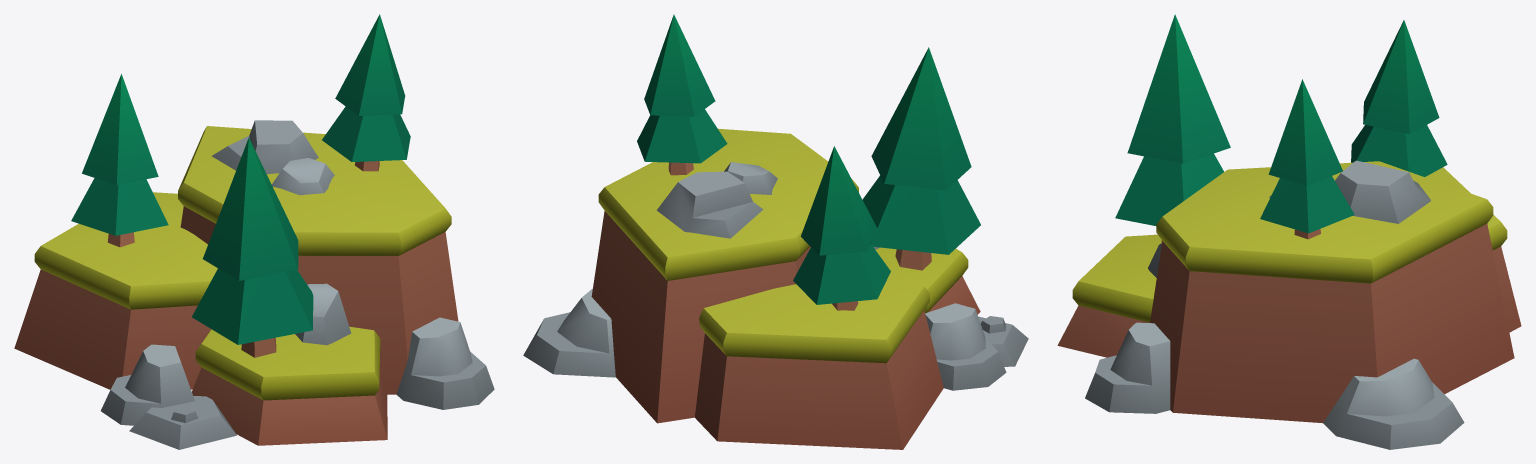
Rendered from hills_A_trees.glb.
3 renders of one model, left to right at view 1: azimuth 30°, elevation 25°; view 2: azimuth 150°, elevation 25°; view 3: azimuth 270°, elevation 25°, orthographic. The views are drawn at different scales.
Visible parts, largest first — view 1: hills_A_trees; view 2: hills_A_trees; view 3: hills_A_trees.
Part boxes in pixels (<box>): hills_A_trees: <box>14,14,494,449</box>; hills_A_trees: <box>523,14,1028,449</box>; hills_A_trees: <box>1057,14,1521,449</box>.
Bounding box in the file's own units: 1.76 × 1.33 × 1.74.
1 material, 1 textured.
